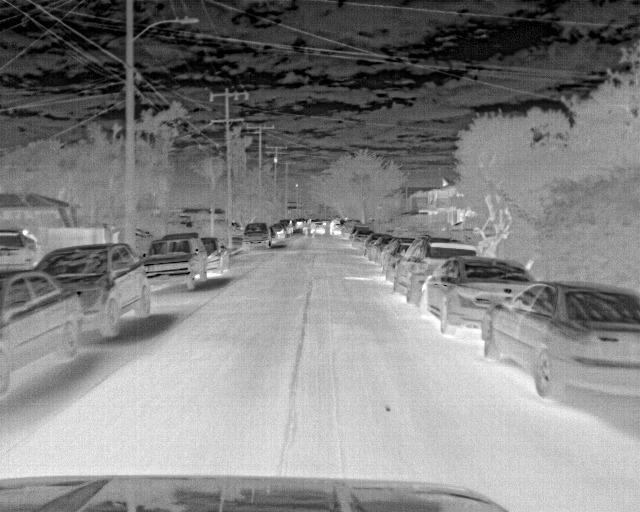car: (480, 282, 638, 408), (35, 245, 151, 340), (1, 269, 83, 392), (421, 254, 532, 336), (394, 234, 479, 303), (142, 233, 207, 289), (0, 227, 38, 270), (381, 237, 418, 276), (202, 238, 230, 276), (242, 221, 273, 252), (367, 235, 396, 263), (339, 217, 363, 240), (353, 229, 372, 252), (277, 218, 295, 236), (268, 225, 286, 240)
